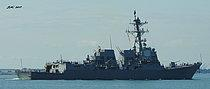MIL_Ship: (15, 16, 203, 80)
